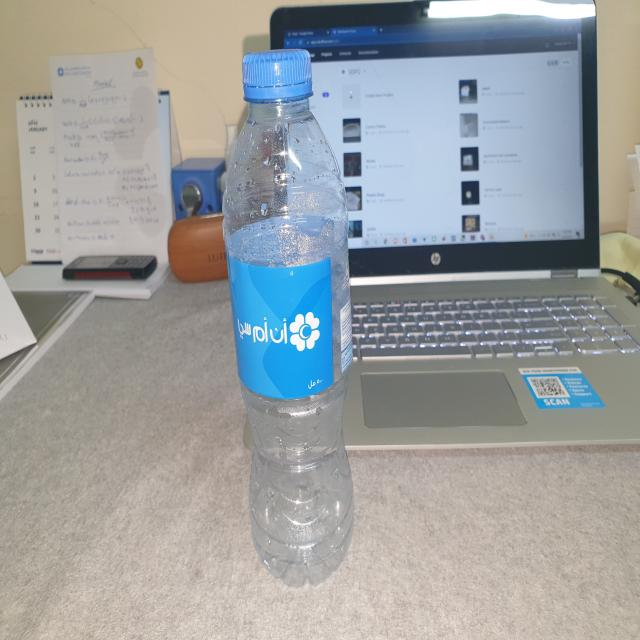bottle: (221, 51, 358, 591)
